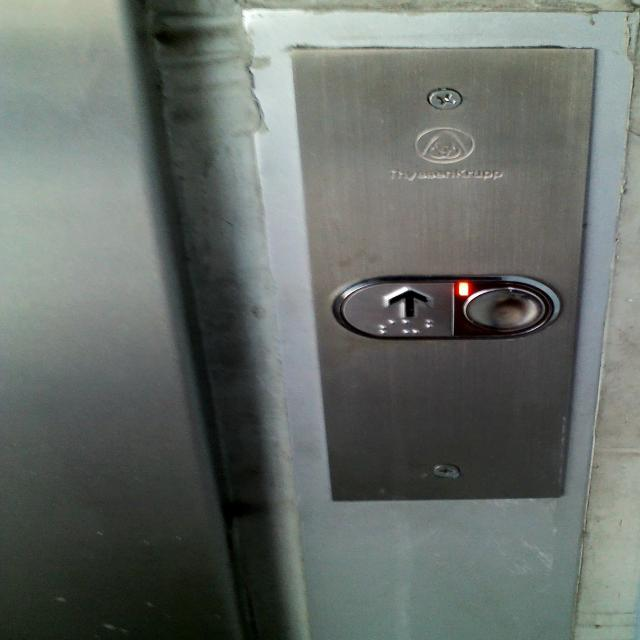up: (324, 270, 563, 344)
